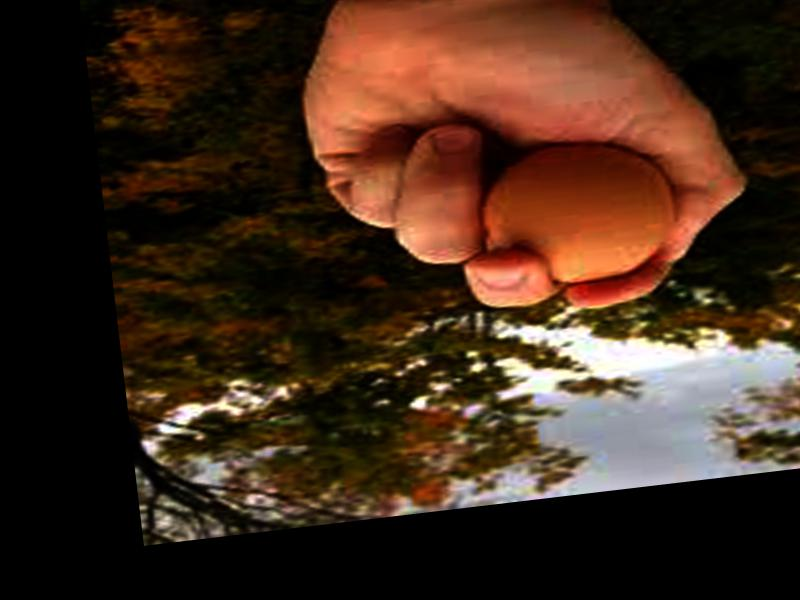Eggs: (467, 134, 679, 293)
